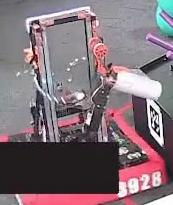red_number: (116, 166, 164, 201)
